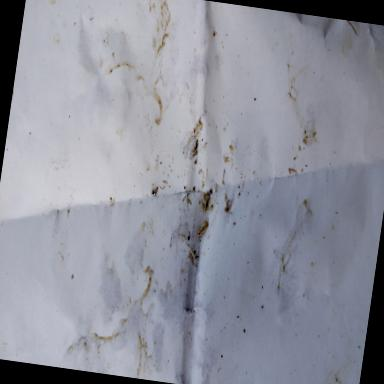pbw: (196, 216, 210, 238), (201, 192, 209, 212)
